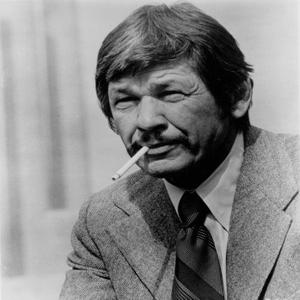cigarette: (111, 145, 150, 184)
